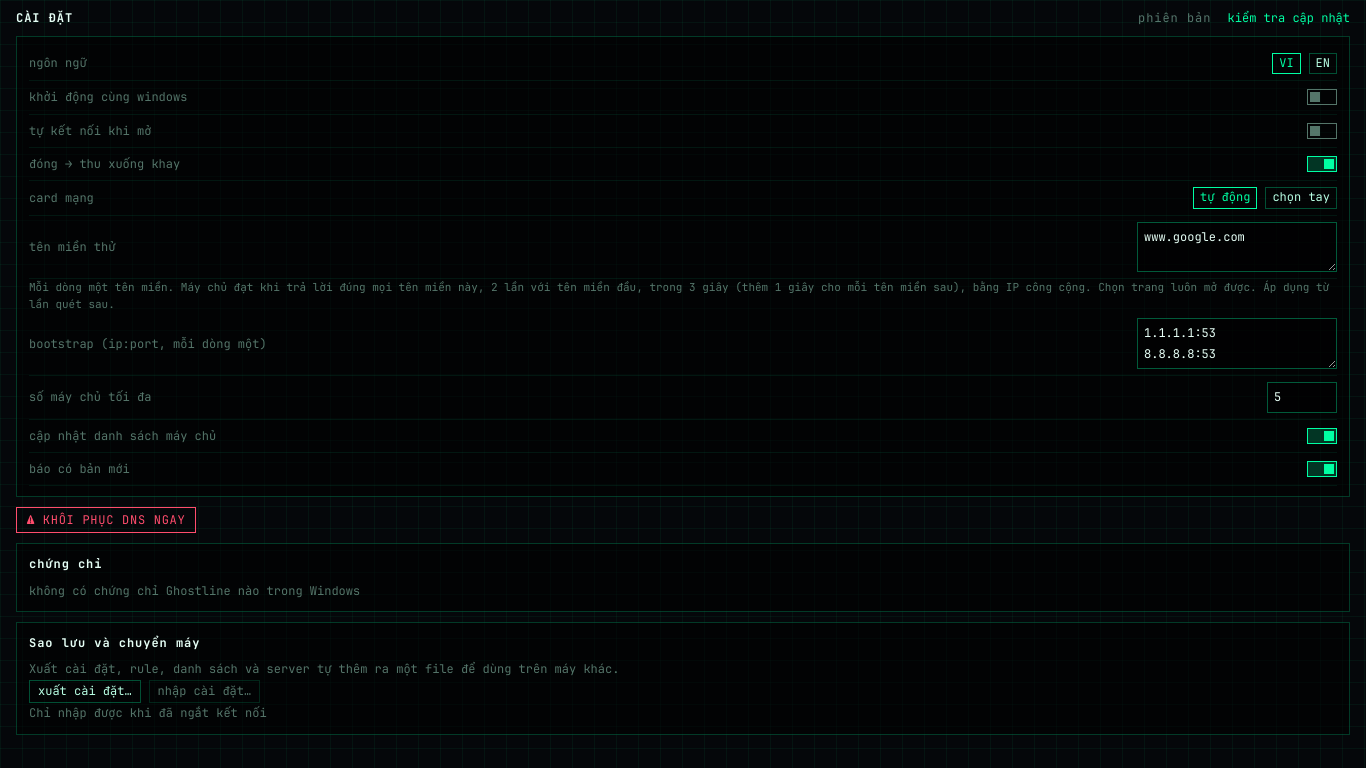
Test case: settings: a failed restore is shown, not swallowed
Click the button "⚠ KHÔI PHỤC DNS NGAY".
click(106, 520)  # box [16,507,196,533]
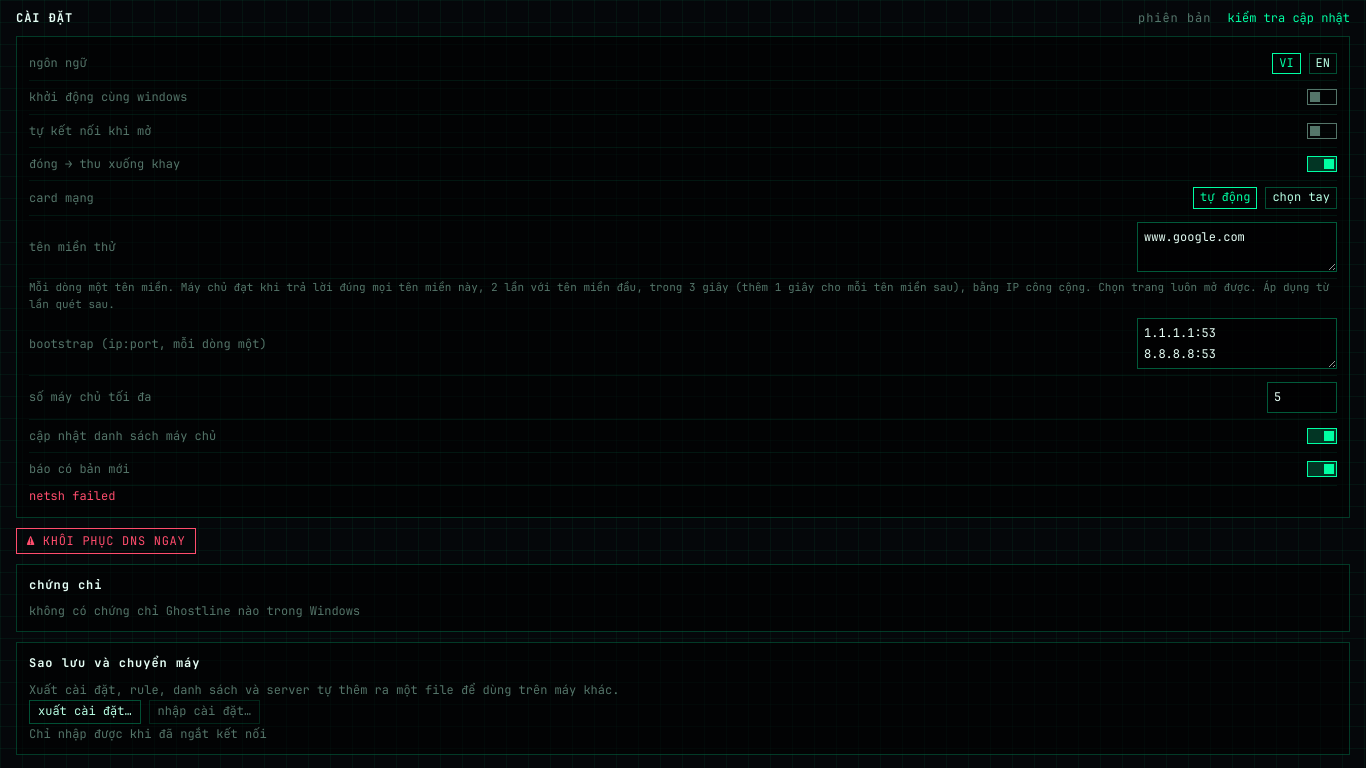
Expected: the text "netsh failed" is shown, [29,488,115,504]
